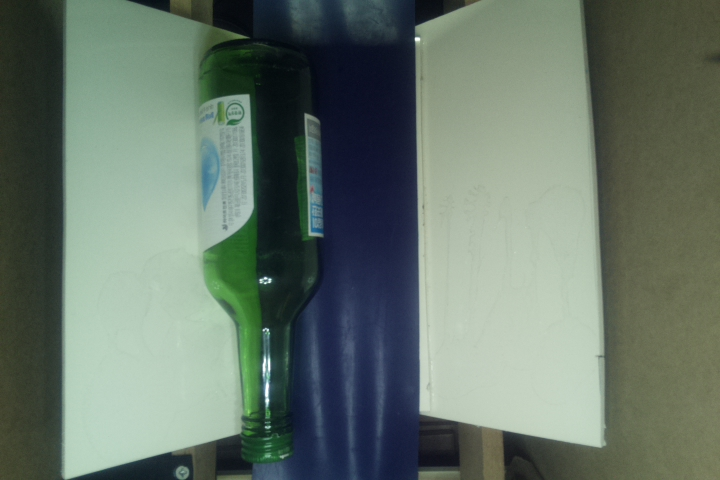soju: (197, 38, 323, 462)
